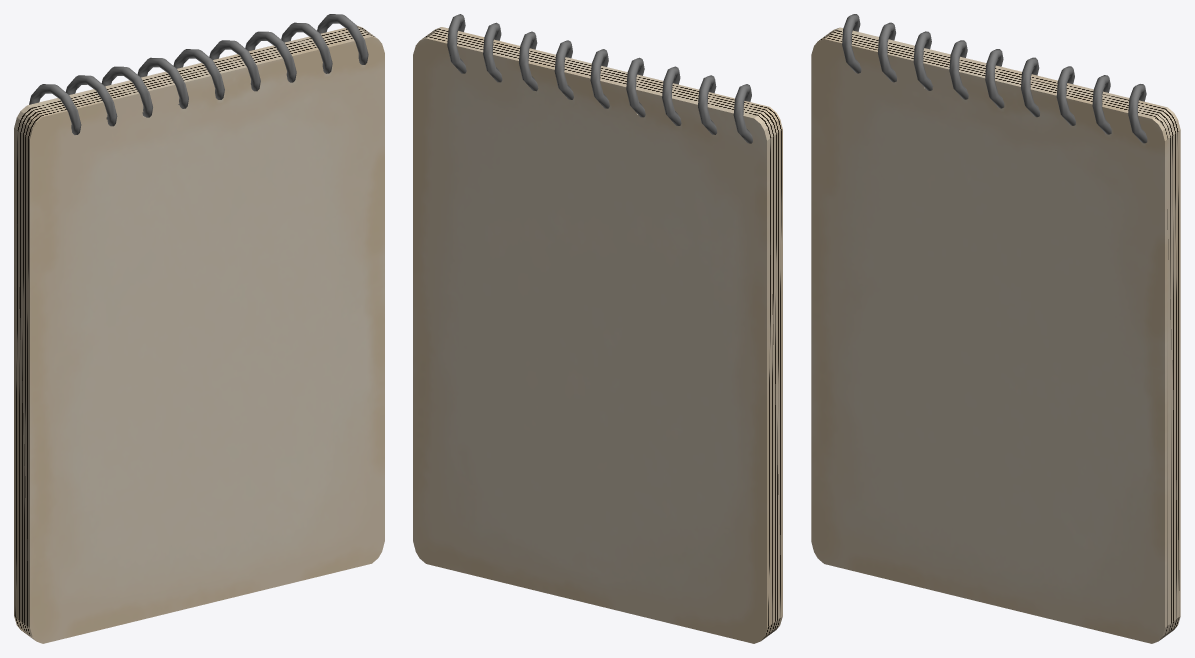
The model's file is TodoList.fbx.
3 views of the same model, side by side, from view 1: azimuth 30°, elevation 25°; view 2: azimuth 150°, elevation 25°; view 3: azimuth 330°, elevation 25° (orthographic).
Visible parts, largest first — view 1: To-DoList; view 2: To-DoList; view 3: To-DoList.
Part boxes in pixels (box(x1,y1,x2,y2)): To-DoList: box(14, 14, 384, 643); To-DoList: box(413, 14, 782, 643); To-DoList: box(811, 14, 1180, 643).
Size of the model in its own units: 110 by 162 by 14.86.
